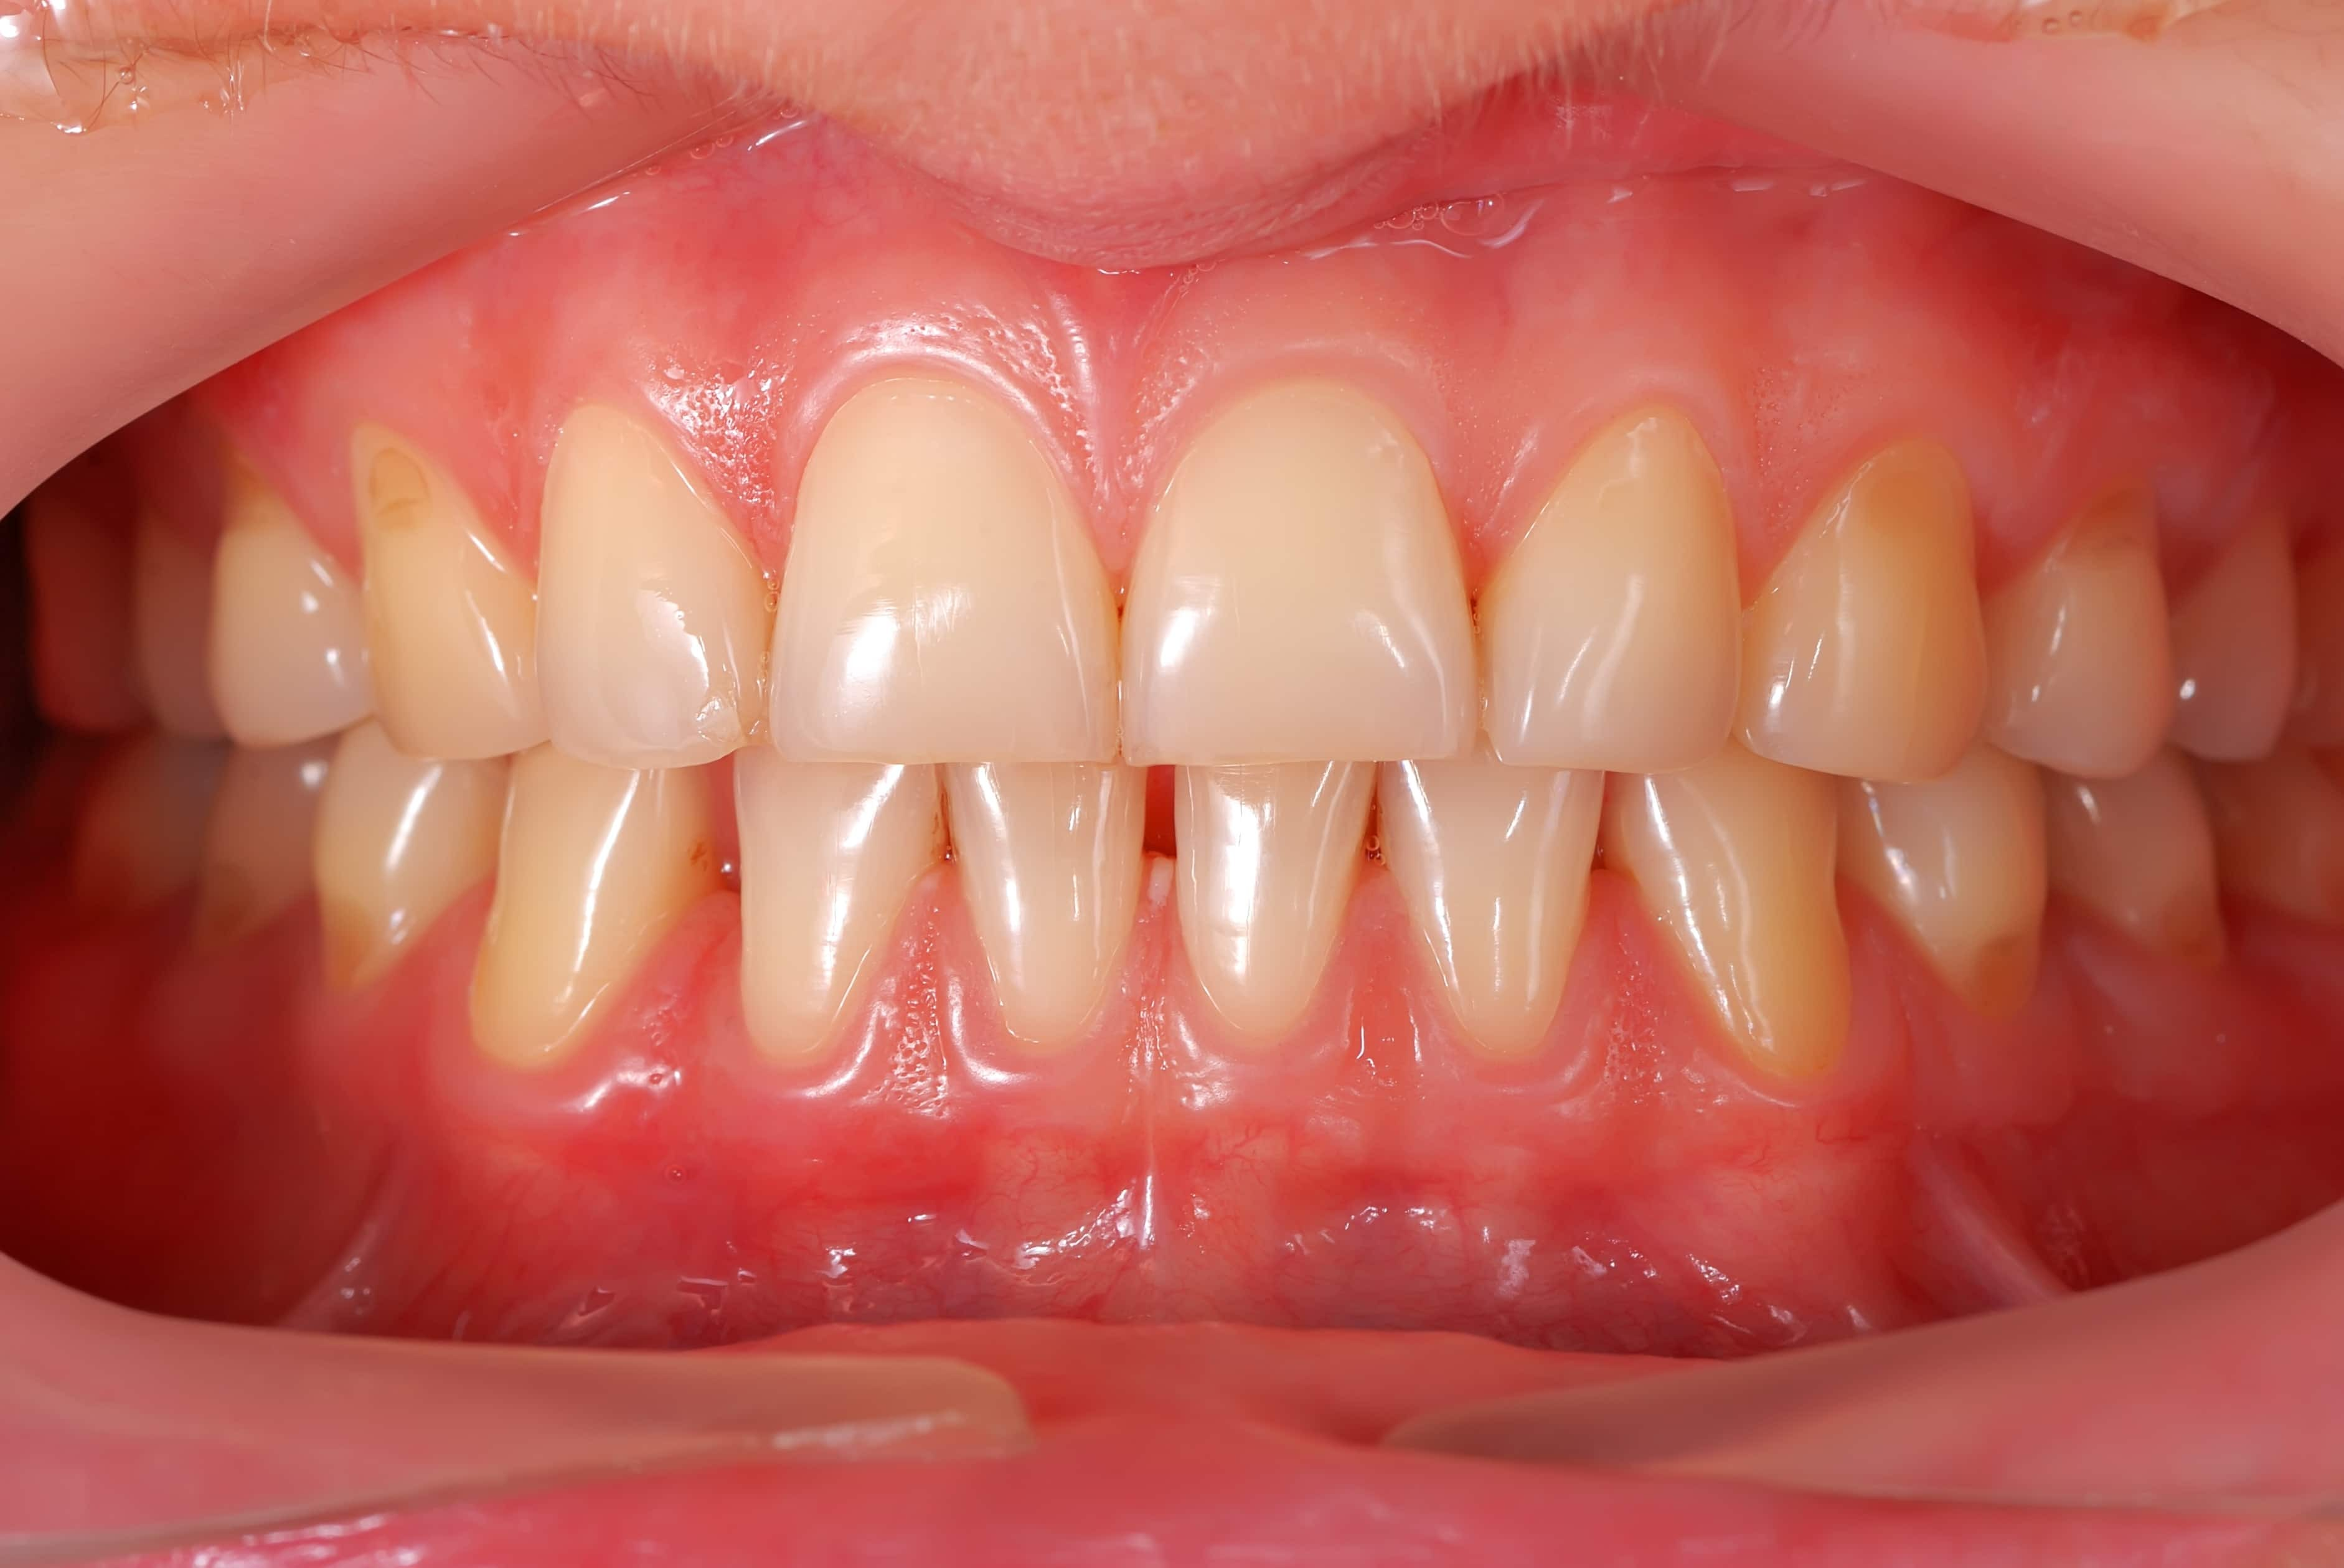LL1BC_healthy: (1843, 786, 2046, 1008)
LL2BC_healthy: (2055, 779, 2221, 966)
LLCI_healthy: (1176, 766, 1371, 1032)
LLC_healthy: (1611, 772, 1852, 1080)
LLLI_healthy: (1378, 768, 1611, 1057)
LR1BC_healthy: (313, 758, 485, 983)
LR2BC_healthy: (205, 752, 312, 947)
LRCI_healthy: (947, 761, 1145, 1039)
LRC_healthy: (490, 763, 691, 1055)
LRLI_healthy: (735, 759, 933, 1064)
UL1BC_healthy: (1992, 499, 2171, 779)
UL2BC_healthy: (2172, 516, 2295, 759)
ULCI_healthy: (1126, 380, 1476, 763)
ULC_healthy: (1737, 443, 1992, 784)
ULLI_healthy: (1476, 411, 1740, 772)
UR1BC_healthy: (205, 500, 355, 745)
UR2BC_healthy: (133, 516, 203, 735)
URCI_healthy: (772, 373, 1120, 763)
URC_healthy: (352, 427, 537, 758)
URLI_healthy: (536, 402, 774, 766)
